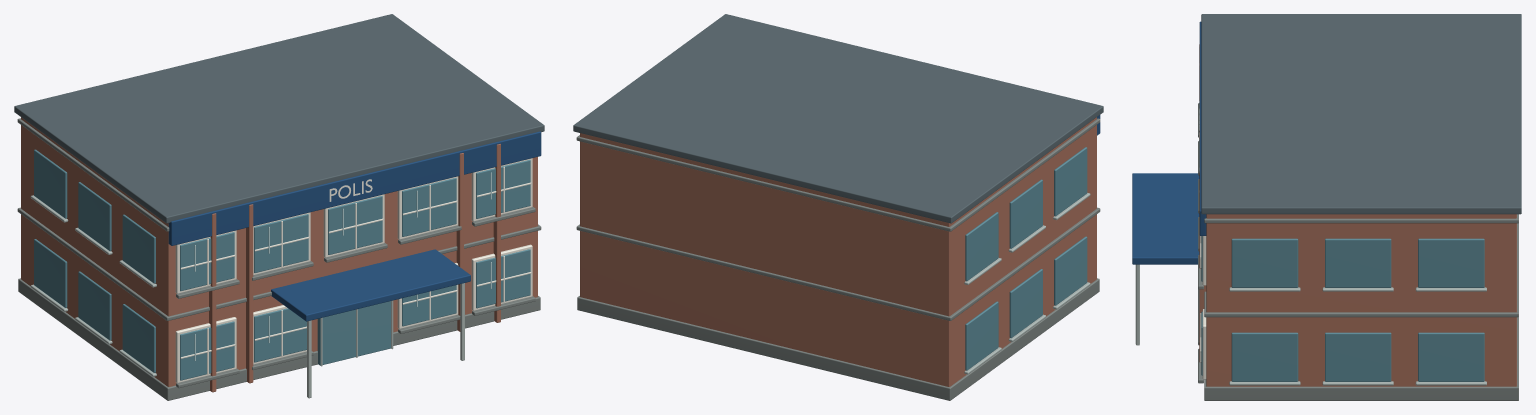
The model's file is polisstation.glb.
3 views of the same model, side by side, from view 1: azimuth 30°, elevation 25°; view 2: azimuth 150°, elevation 25°; view 3: azimuth 270°, elevation 25° (orthographic). The views are drawn at different scales.
Parts seen in each view (by area): view 1: Parapet, Facade, Sign band, Entrance canopy, Granite plinth, Reception glazing, Insulated glazing.007, Insulated glazing.005, Insulated glazing.006, Insulated glazing.004, Insulated glazing.003, Insulated glazing.008 (+21 smaller); view 2: Facade, Parapet, Granite plinth, Shadow line.001, Shadow line, Side glazing, Side glazing.002, Side glazing.008, Side glazing.001, Side glazing.006, Side glazing.007; view 3: Parapet, Facade, Entrance canopy, Granite plinth, Side glazing.009, Side glazing.003, Side glazing.004, Side glazing.005, Side glazing.010, Side glazing.011, Shadow line, Shadow line.001 (+2 smaller).
Boxes of the visible parts, bbox=[...] form: Parapet: bbox=[14, 14, 544, 223]; Facade: bbox=[21, 117, 537, 386]; Sign band: bbox=[168, 131, 541, 245]; Entrance canopy: bbox=[271, 249, 470, 321]; Granite plinth: bbox=[18, 278, 540, 400]; Reception glazing: bbox=[317, 301, 390, 365]; Insulated glazing.007: bbox=[402, 178, 456, 236]; Insulated glazing.005: bbox=[254, 214, 308, 272]; Insulated glazing.006: bbox=[328, 196, 382, 254]; Insulated glazing.004: bbox=[180, 232, 234, 291]; Insulated glazing.003: bbox=[476, 249, 530, 308]; Insulated glazing.008: bbox=[476, 160, 530, 218]; Facade: bbox=[580, 117, 1096, 386]; Parapet: bbox=[573, 14, 1103, 223]; Granite plinth: bbox=[577, 278, 1099, 400]; Shadow line.001: bbox=[576, 118, 1100, 231]; Shadow line: bbox=[576, 207, 1100, 320]; Side glazing: bbox=[1054, 236, 1087, 305]; Side glazing.002: bbox=[965, 301, 998, 370]; Side glazing.008: bbox=[965, 212, 998, 281]; Side glazing.001: bbox=[1009, 269, 1042, 338]; Side glazing.006: bbox=[1054, 147, 1087, 216]; Side glazing.007: bbox=[1009, 179, 1042, 248]; Parapet: bbox=[1201, 14, 1521, 214]; Facade: bbox=[1206, 214, 1516, 386]; Entrance canopy: bbox=[1132, 173, 1199, 264]; Granite plinth: bbox=[1204, 317, 1518, 400]; Side glazing.009: bbox=[1231, 238, 1298, 287]; Side glazing.003: bbox=[1231, 332, 1298, 381]; Side glazing.004: bbox=[1325, 332, 1391, 381]; Side glazing.005: bbox=[1418, 332, 1484, 381]; Side glazing.010: bbox=[1325, 238, 1391, 287]; Side glazing.011: bbox=[1418, 238, 1484, 287]; Shadow line: bbox=[1204, 223, 1518, 317]; Shadow line.001: bbox=[1204, 214, 1518, 223].
Size of the model in its own units: 13.31 by 6.23 by 11.28.
